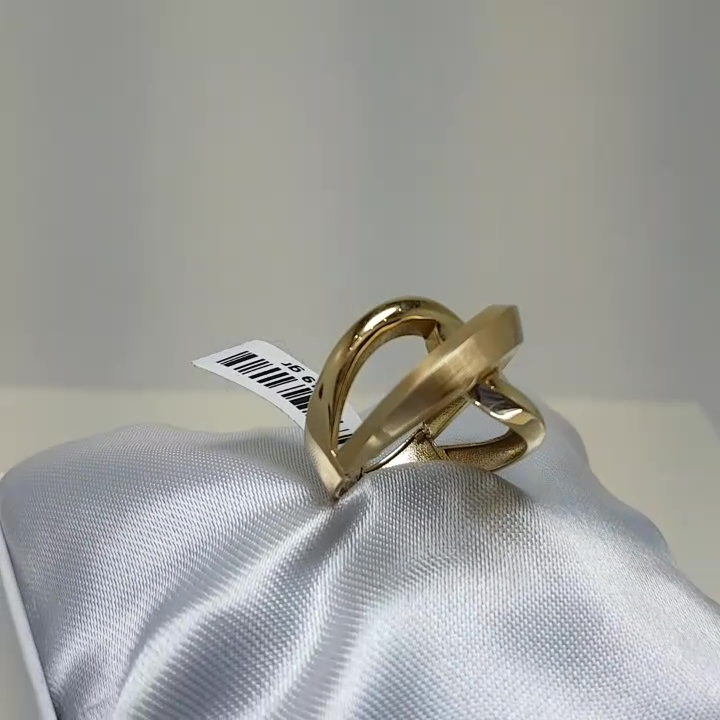Ring 3: (267, 272, 562, 505)
